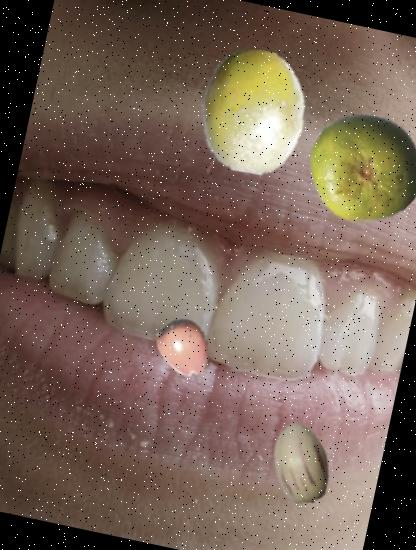Kaki: (147, 310, 221, 384)
Maracuja: (180, 39, 326, 186)
Pepino: (251, 414, 351, 514)
Pomelo: (297, 101, 416, 237)
